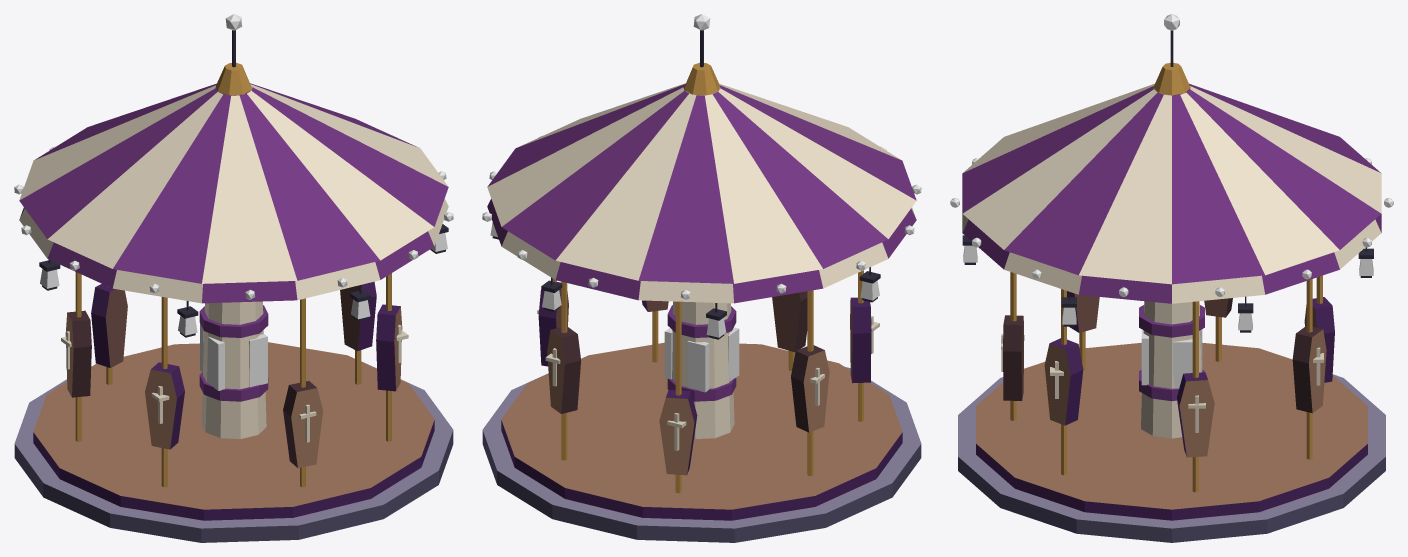
Rendered from Fair_Carousel.fbx.
The picture shows the model from 3 angles, left to right: view 1: azimuth 30°, elevation 25°; view 2: azimuth 150°, elevation 25°; view 3: azimuth 270°, elevation 25°; orthographic projection.
Visible parts, largest first — view 1: Fair_Carousel; view 2: Fair_Carousel; view 3: Fair_Carousel.
Part boxes in pixels (bbox=[...]): Fair_Carousel: bbox=[14, 14, 453, 542]; Fair_Carousel: bbox=[482, 14, 921, 542]; Fair_Carousel: bbox=[950, 14, 1393, 542].
Size of what is drawn, in the model's own units: 9.4 by 10.3 by 9.48.
Materials: 2 (1 with a texture image).
